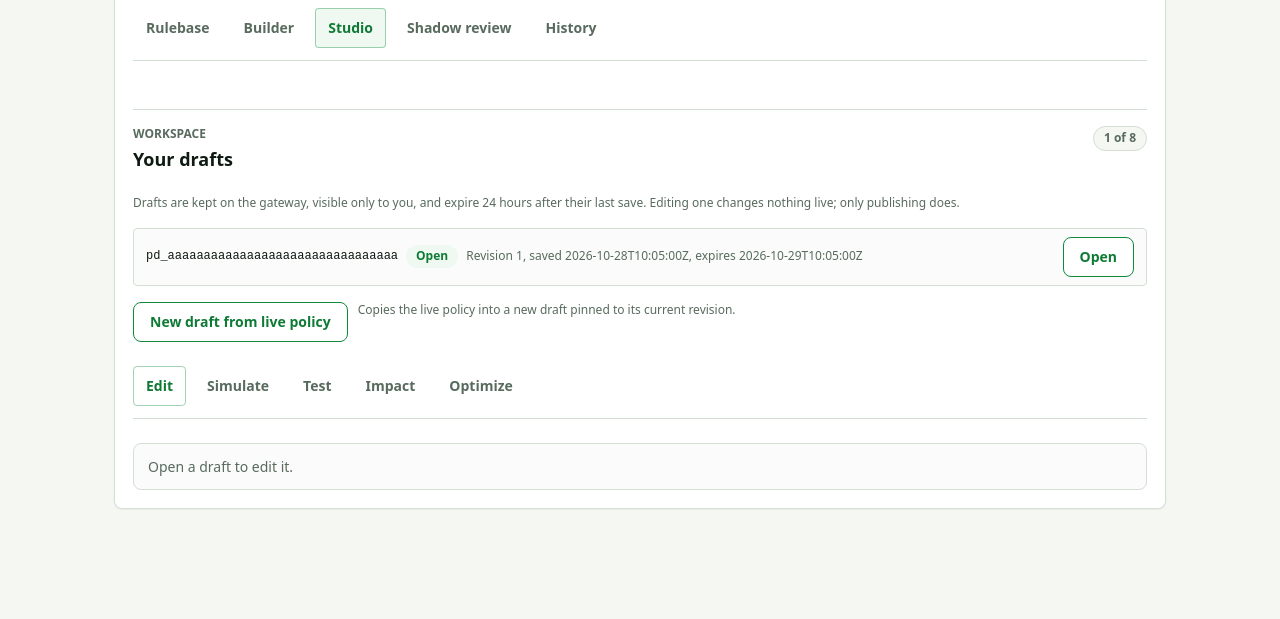
it: Policy Studio workbench › offers runs only for the permissions the server reports
Click the button "Open".
click(1098, 257)  # box [1062,237,1134,277]
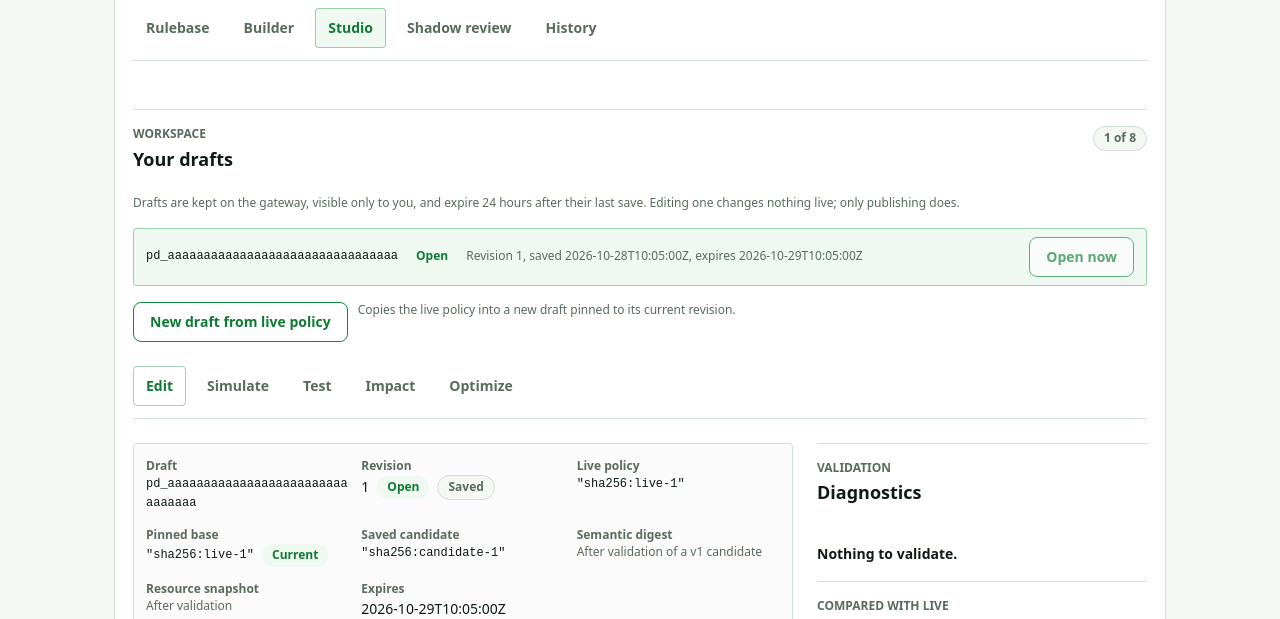
Click the tab "Simulate".
click(238, 386)  # box [194,366,282,406]
(page scrolled)
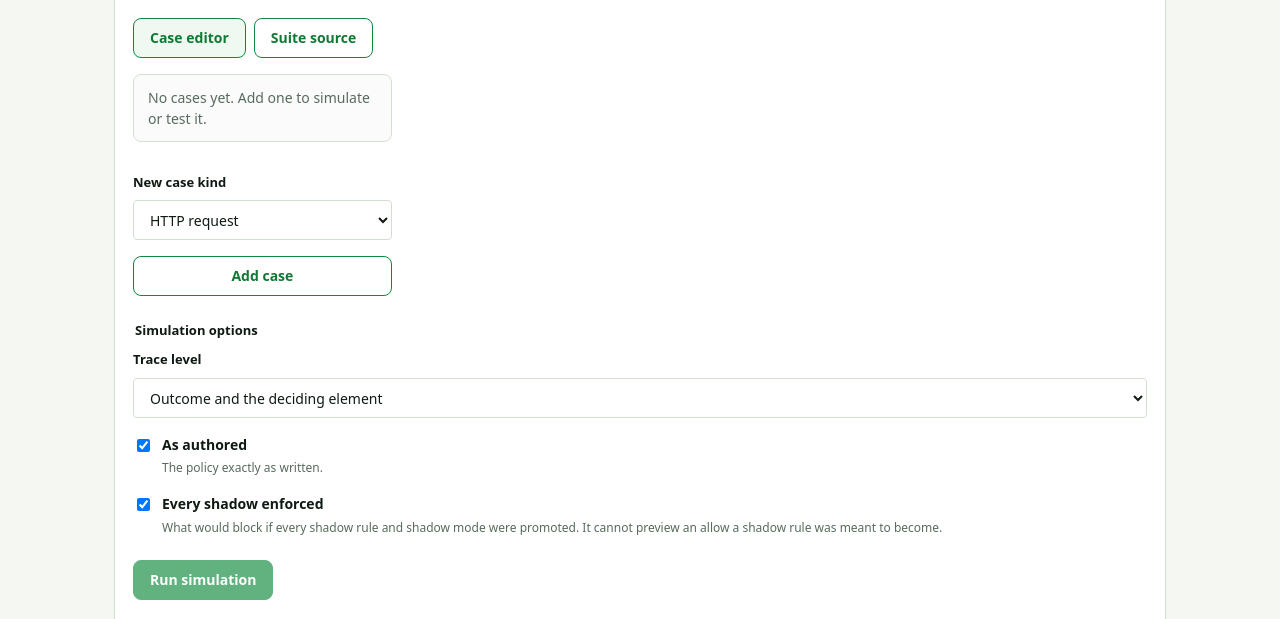
Click the button "Add case".
click(262, 276)  # box [133,256,392,296]
(page scrolled)
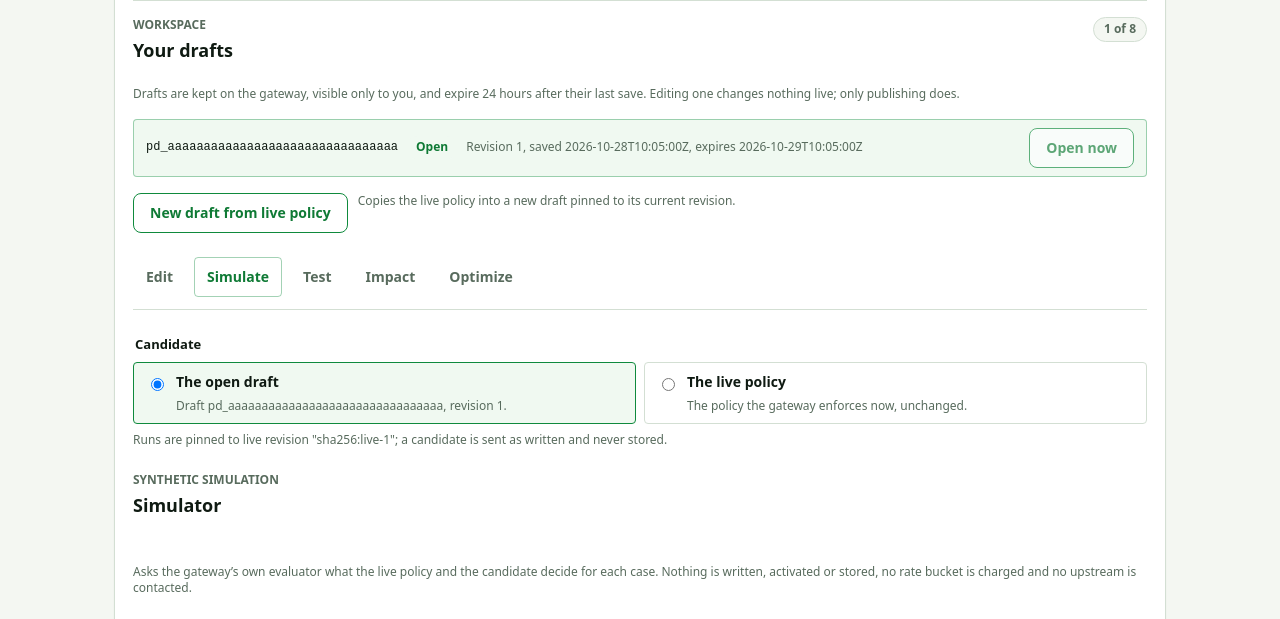
Click the tab "Impact".
click(390, 277)  # box [352,257,428,297]
(page scrolled)
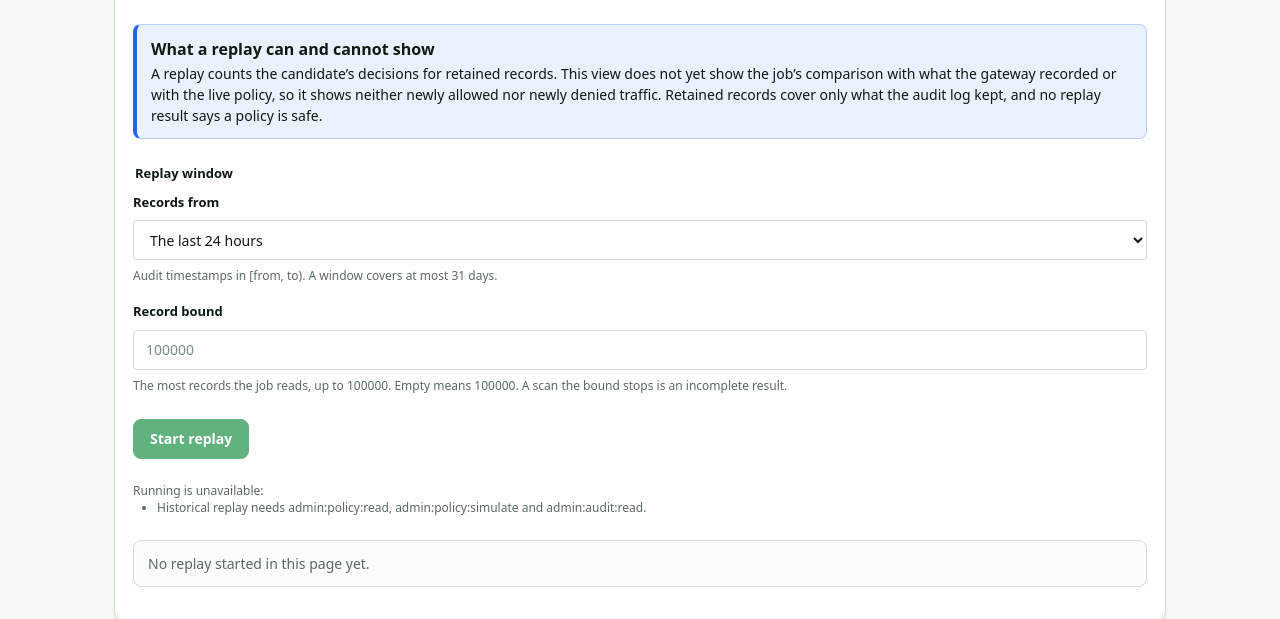
expect the button "Start replay" is disabled: met, box [133,419,249,459]
expect the list item "Historical replay needs admin:policy:read, admin:policy:simulate and admin:audit:read." is shown: met, box [157,498,646,516]
